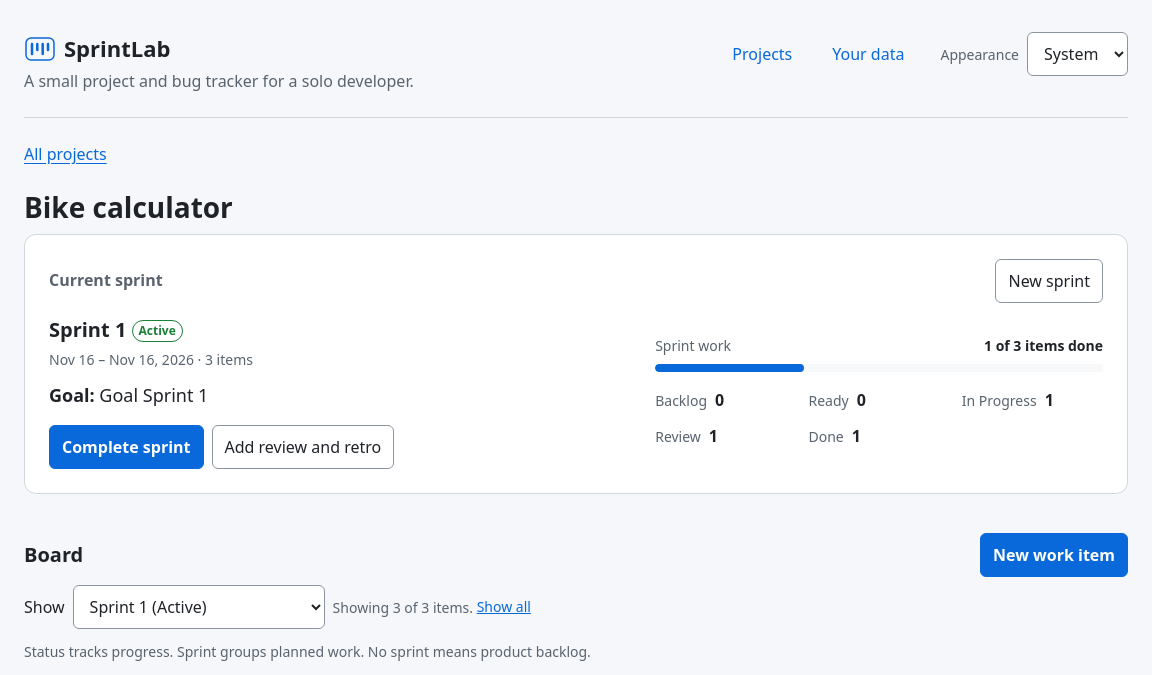
Scenario: Completing a sprint › summarises done and unfinished work before completing
The image size is (1152, 675).
Click the button with aria-label "Complete Sprint 1".
click(126, 447)  # box [49,425,204,469]
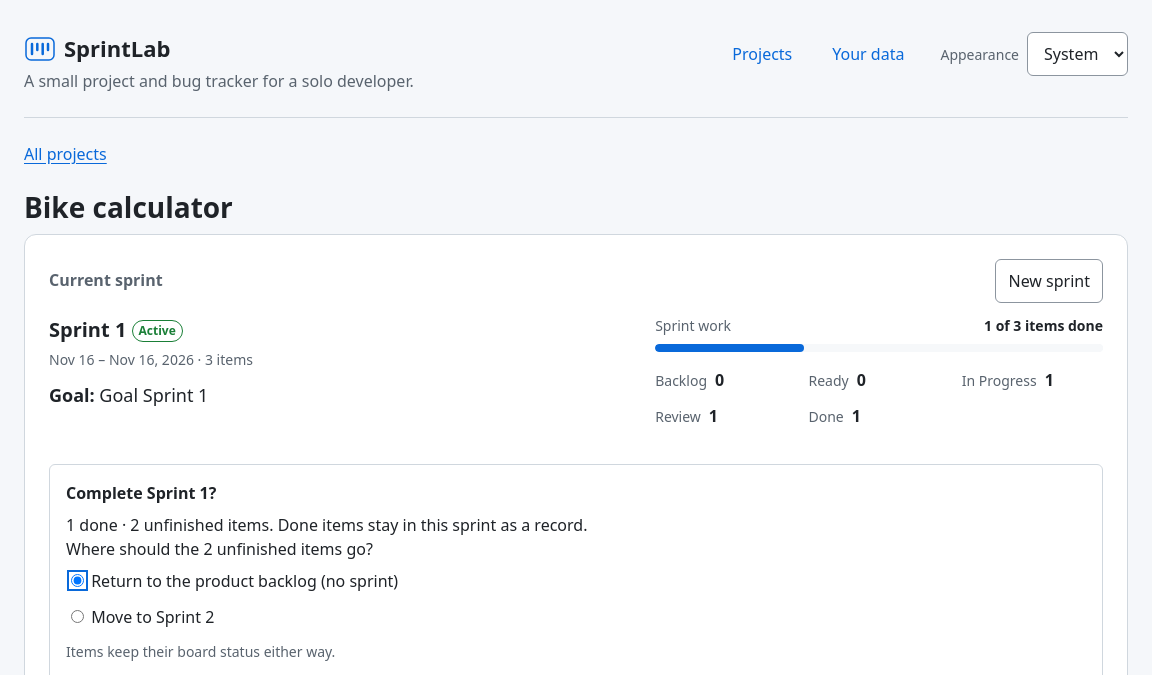
Check: the radio button labelled "Return to the product backlog (no sprint)" is checked, box [71,574,84,587]
Check: the radio button labelled "Move to Sprint 2" is not checked, box [71,610,84,623]
